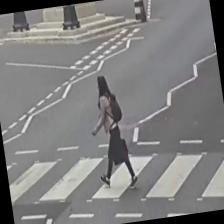person: (85, 72, 140, 192)
